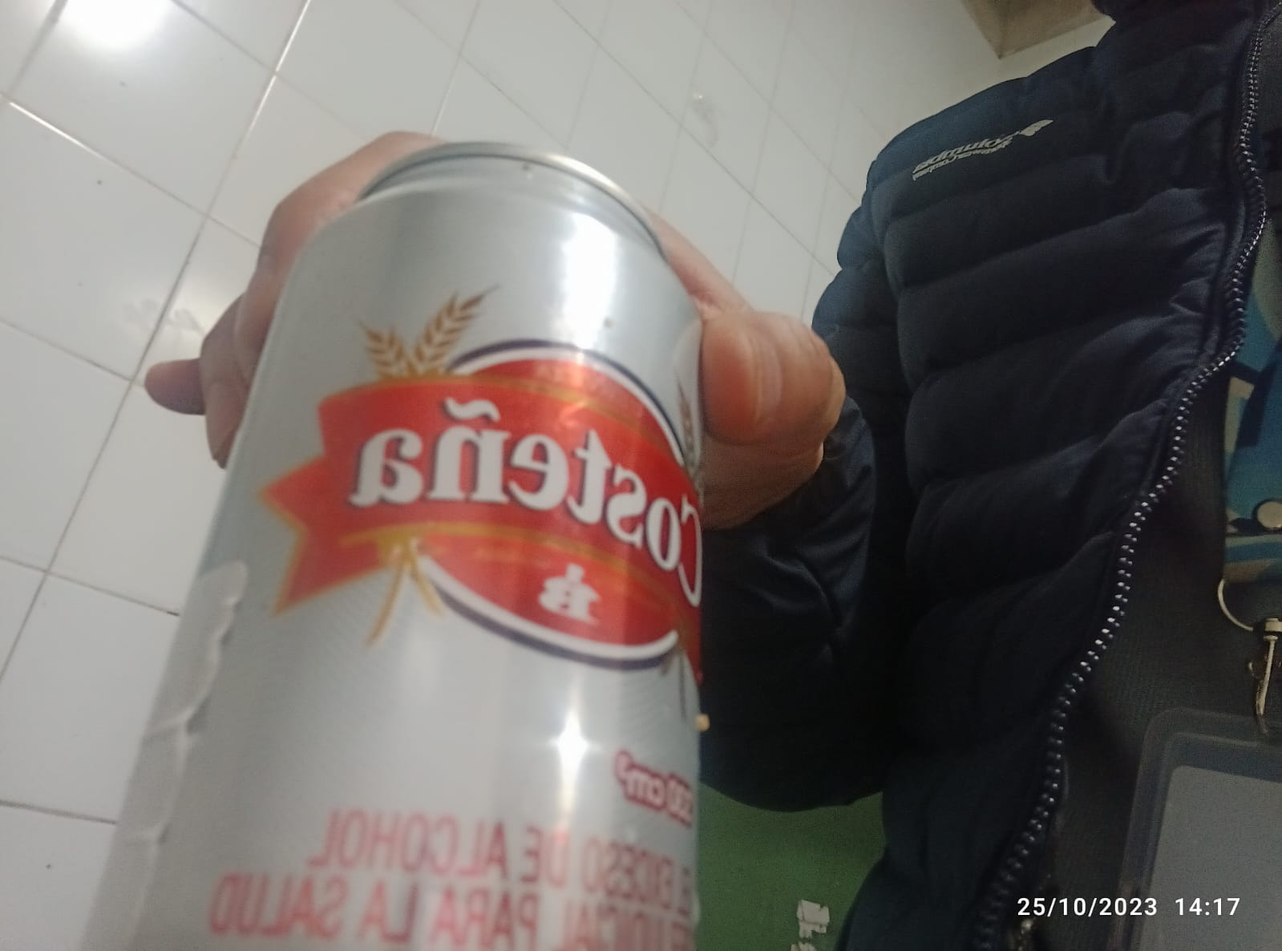Metal: (84, 146, 706, 951)
